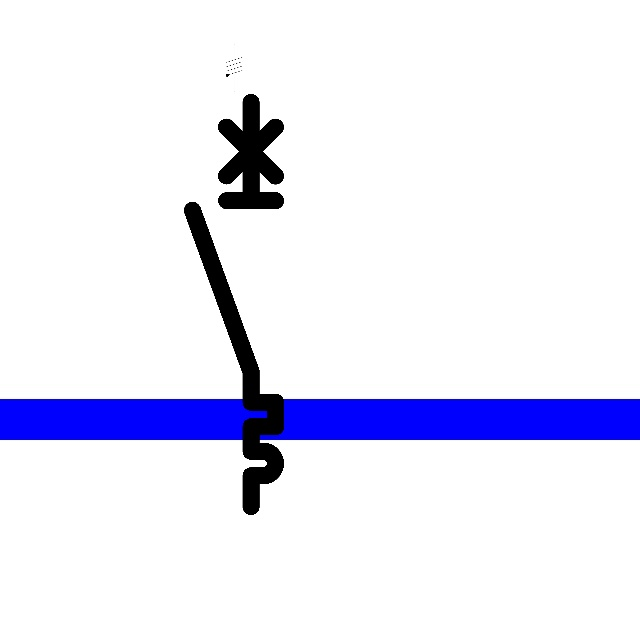interruptor_termomagnetico: (182, 92, 286, 517)
